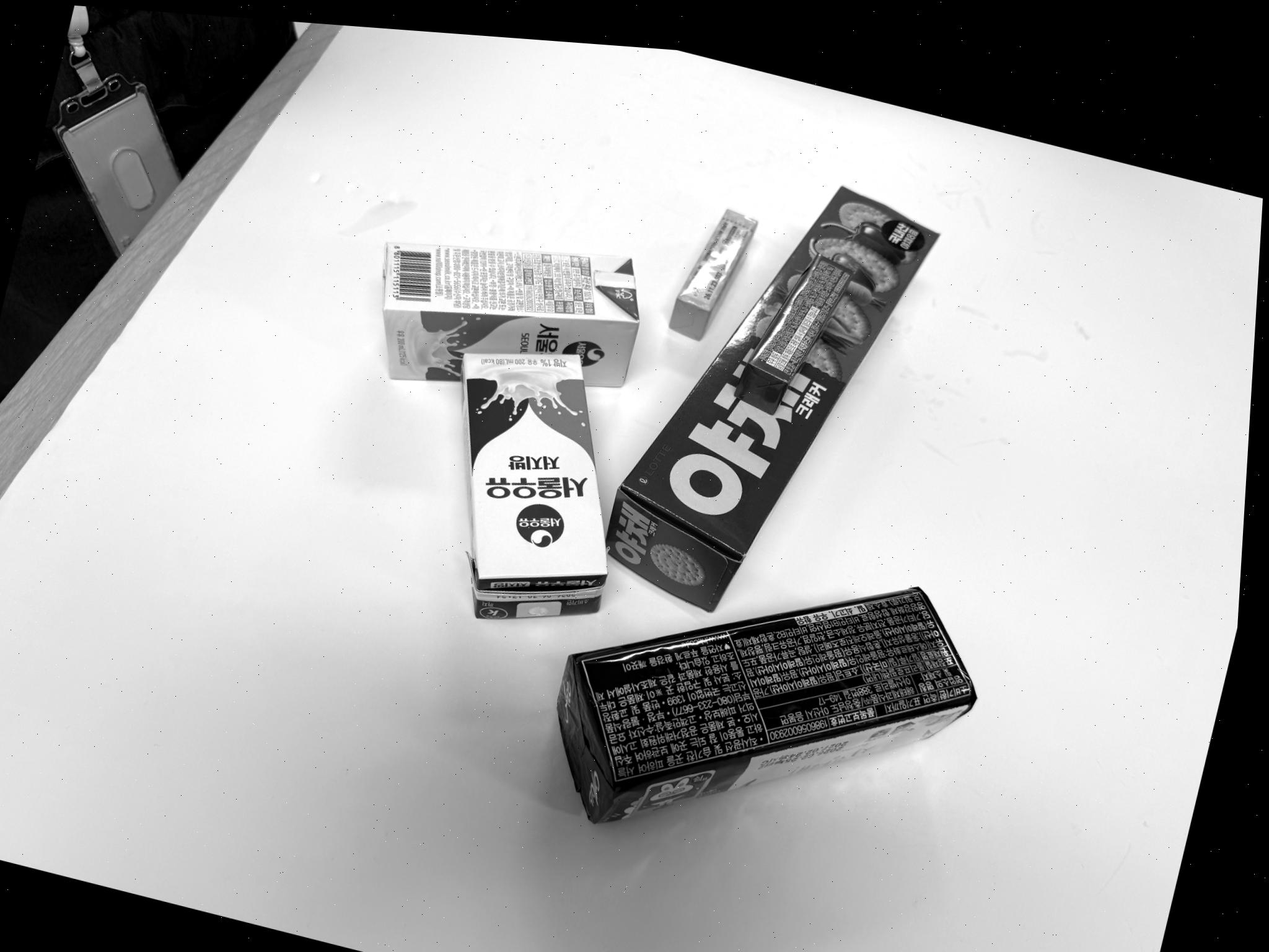cracker_ace: (549, 585, 975, 826)
cracker_vege: (603, 186, 939, 612)
gum_yellow: (670, 208, 762, 343)
milk_blue: (464, 351, 606, 621)
milk_green: (385, 241, 637, 389)
